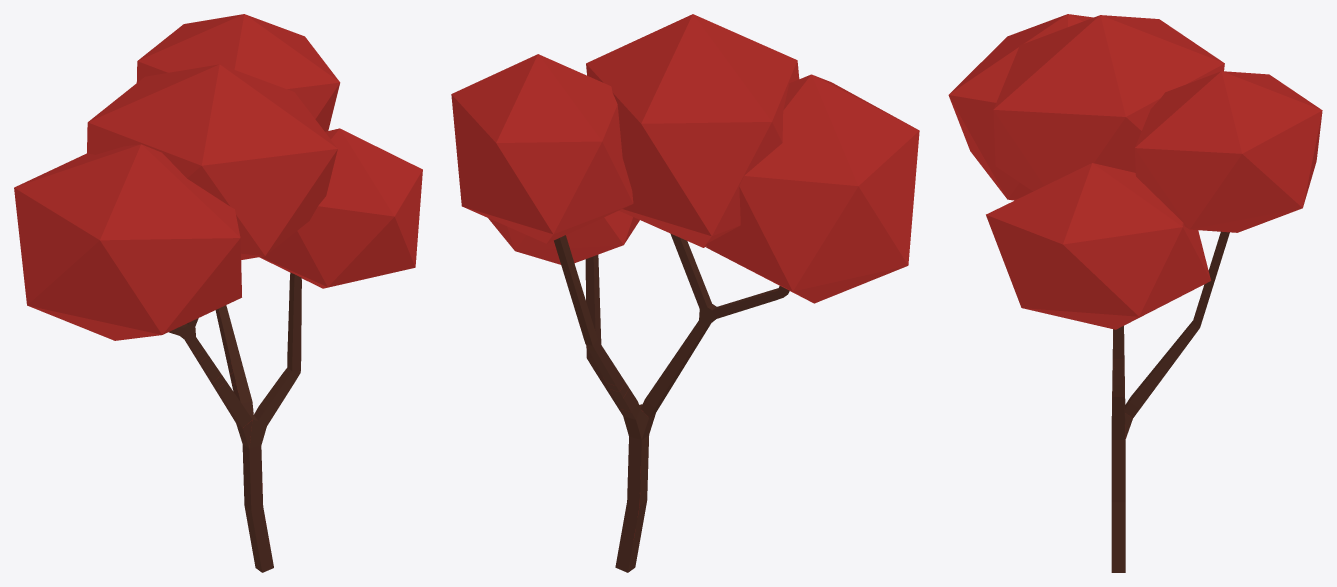
Rendered from cherryBlossomTree.gltf.
The picture shows the model from 3 angles, left to right: view 1: azimuth 30°, elevation 25°; view 2: azimuth 150°, elevation 25°; view 3: azimuth 270°, elevation 25°; orthographic projection. The views are drawn at different scales.
Visible parts, largest first — view 1: Trunk; view 2: Trunk; view 3: Trunk.
Part boxes in pixels (x1=…): Trunk: x1=14, y1=14, x2=422, y2=572; Trunk: x1=451, y1=14, x2=919, y2=572; Trunk: x1=948, y1=14, x2=1322, y2=572.
Size of the model in its own units: 16.01 by 21.02 by 13.43.
1 material, 1 textured.
